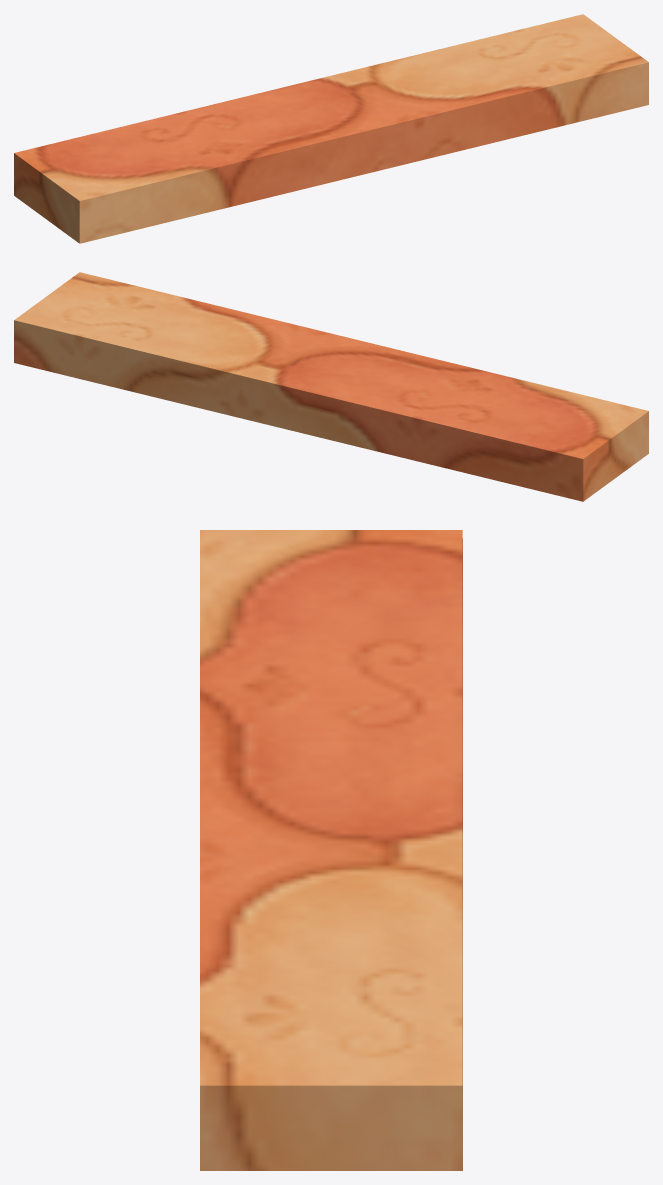
Rendered from Trim_Strip.fbx.
3 views of the same model, one above another, from view 1: azimuth 30°, elevation 25°; view 2: azimuth 150°, elevation 25°; view 3: azimuth 270°, elevation 25° (orthographic). The views are drawn at different scales.
Visible parts, largest first — view 1: Trim_Strip; view 2: Trim_Strip; view 3: Trim_Strip.
Part boxes in pixels (x1,y1,x2,y2): Trim_Strip: [14, 14, 648, 243]; Trim_Strip: [14, 272, 648, 501]; Trim_Strip: [200, 530, 462, 1170].
Bounding box in the file's own units: 1 × 0.0717 × 0.2001.
